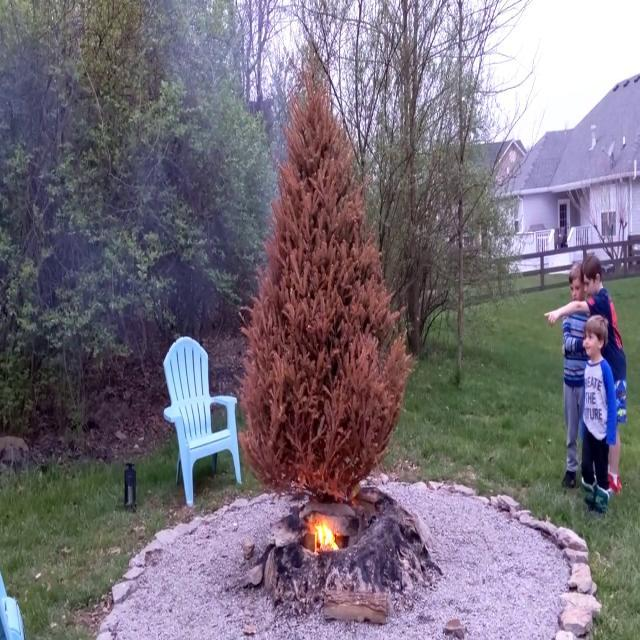Fire: (312, 510, 338, 554)
